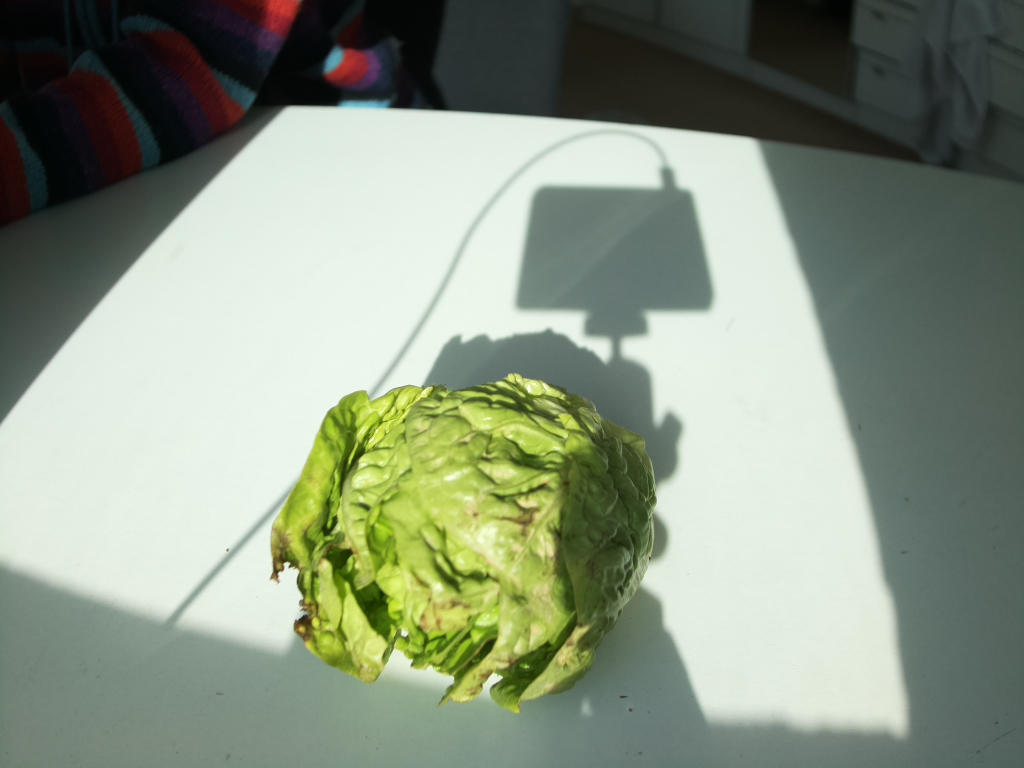salad: (270, 373, 659, 708)
